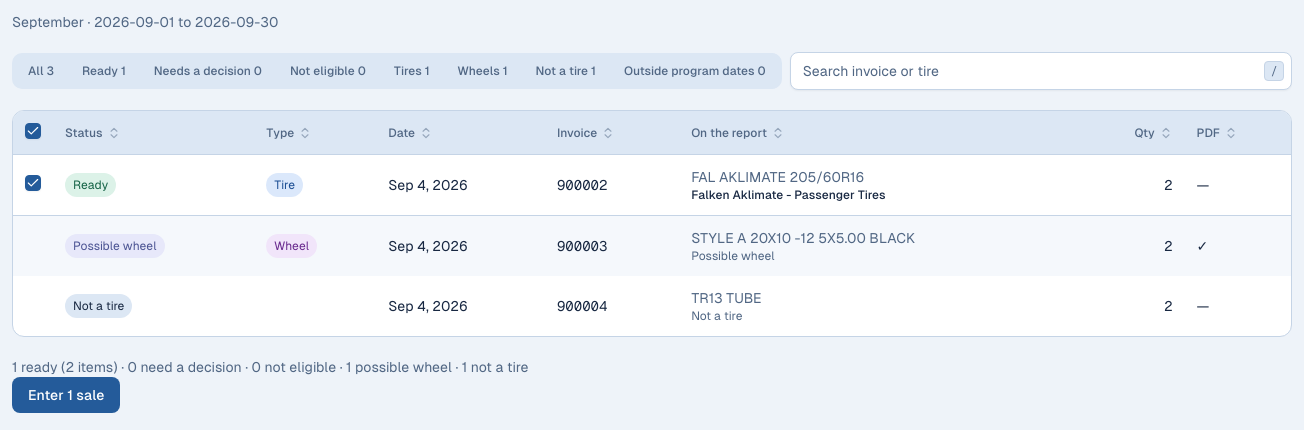
it: shows possible wheels in their own filter with a note
Expected: the button "Enter 1 sale" is shown, 12,377 -> 120,413
Expected: the tab "All 3" is shown, 16,57 -> 66,85
Click the tab "Wheels 1".
click(483, 71)  # box 446,57 -> 520,85
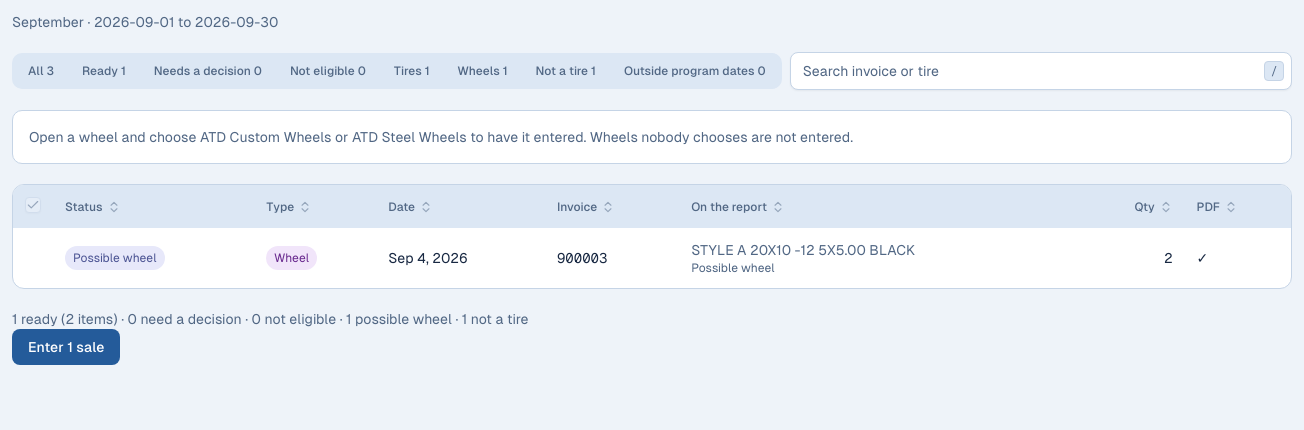
Result: the text "900002" is gone
Result: the text "900004" is gone
Result: the text "choose ATD Custom Wheels or ATD Steel Wheels" is shown at 29,129 -> 853,145
Click the tab "Not a tire 1".
click(566, 71)  # box 524,57 -> 608,85
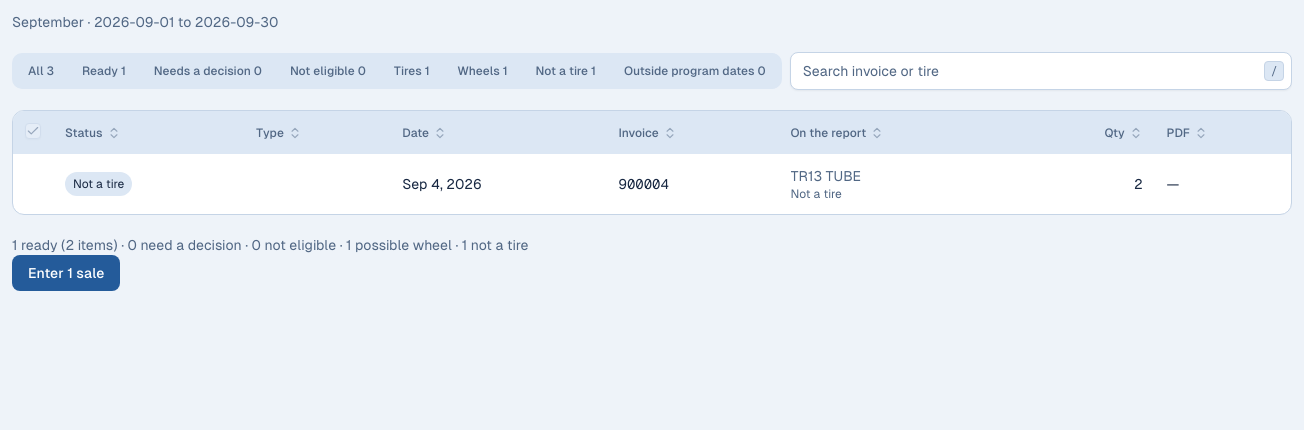
Result: the text "900004" is shown at 606,154 -> 778,214
Result: the text "900003" is gone
Click the tab "All 3".
click(41, 71)  # box 16,57 -> 66,85
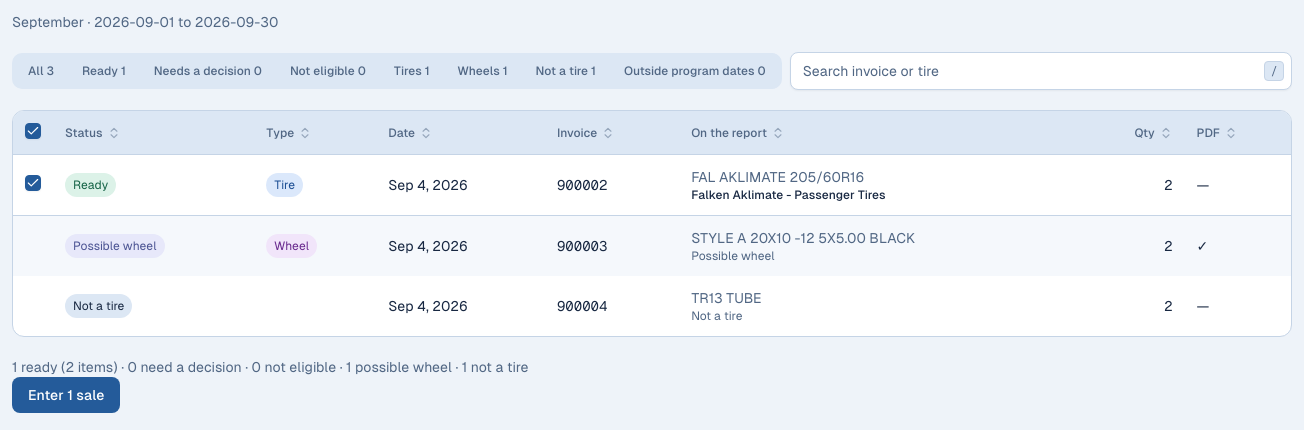
Result: the text "900003" is shown at 545,216 -> 679,276
Type "900003" into the field with placeholder "Search invoice or tire".
click(1041, 71); type("900003")  # box 790,52 -> 1292,90
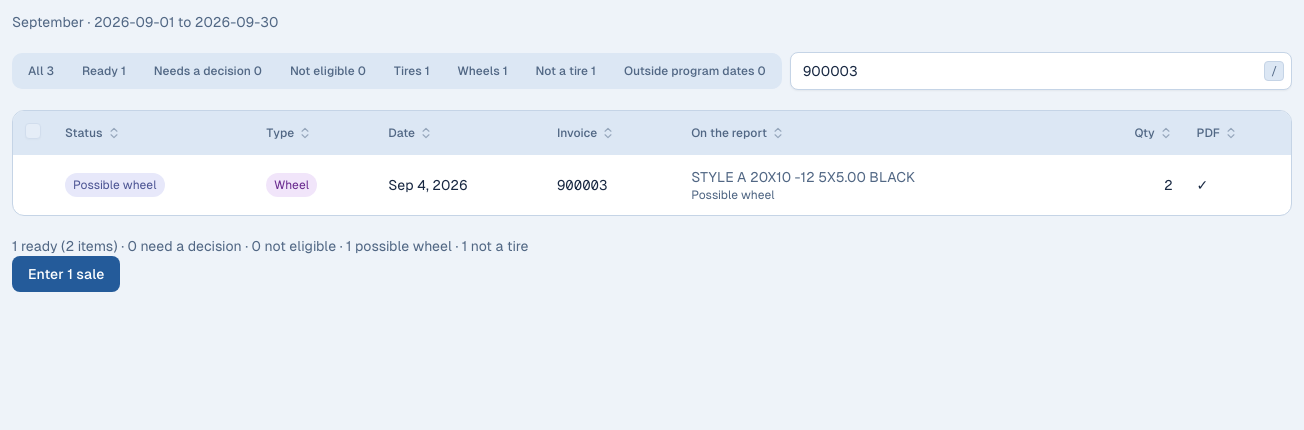
Result: the text "900003" is shown at 545,155 -> 679,215
Result: the text "900002" is gone
